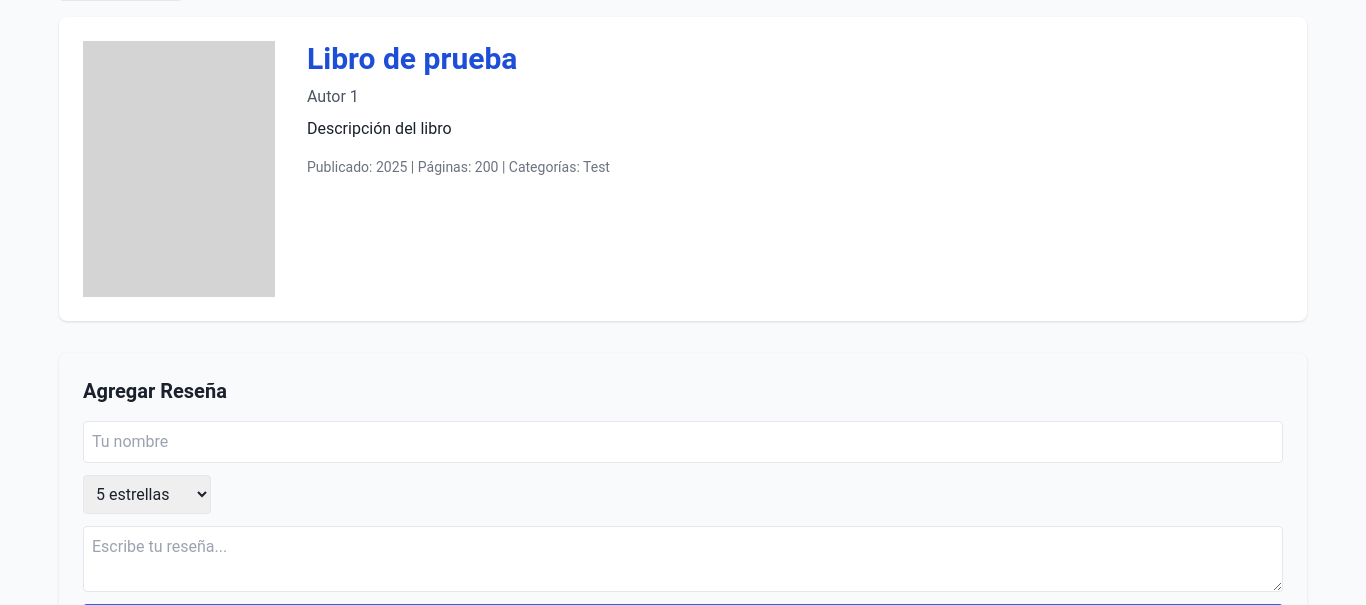
Scenario: BookPage reseñas › permite agregar una reseña y se muestra en la lista
Completar formulario
Type "Juan" into the field with placeholder "Tu nombre" at point(683, 442), box [83, 421, 1283, 463]
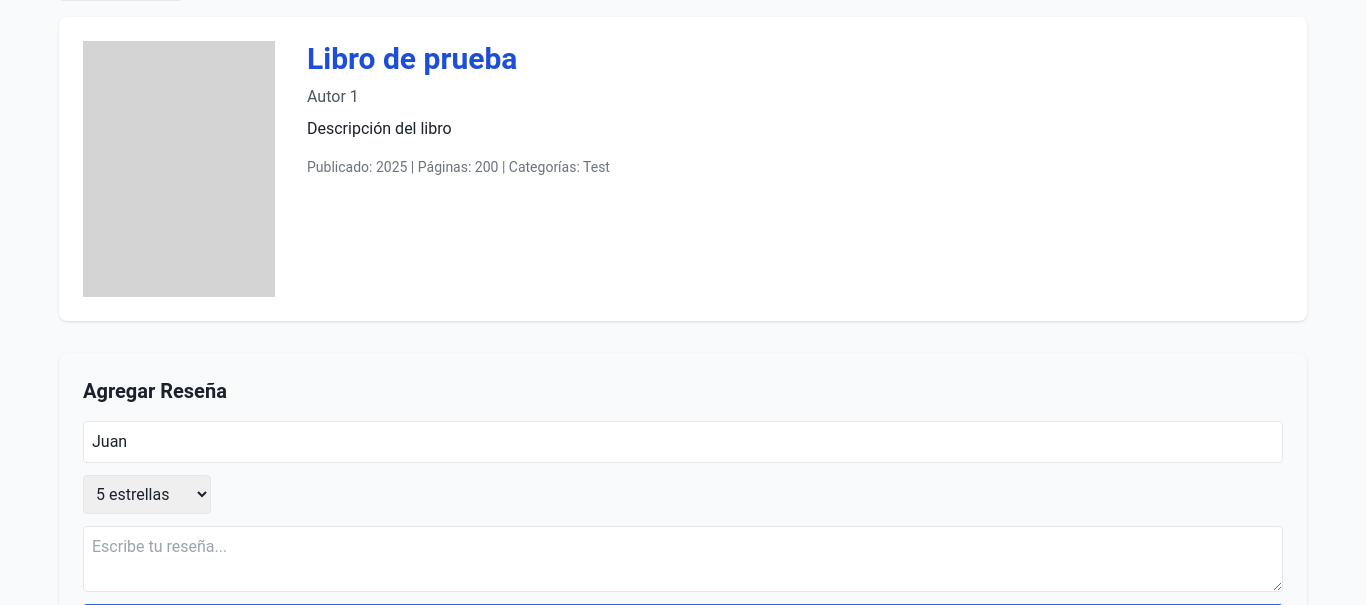
Type "Muy buen libro" into the text box with placeholder "Escribe tu reseña..." at point(683, 559), box [83, 526, 1283, 592]
(page scrolled)
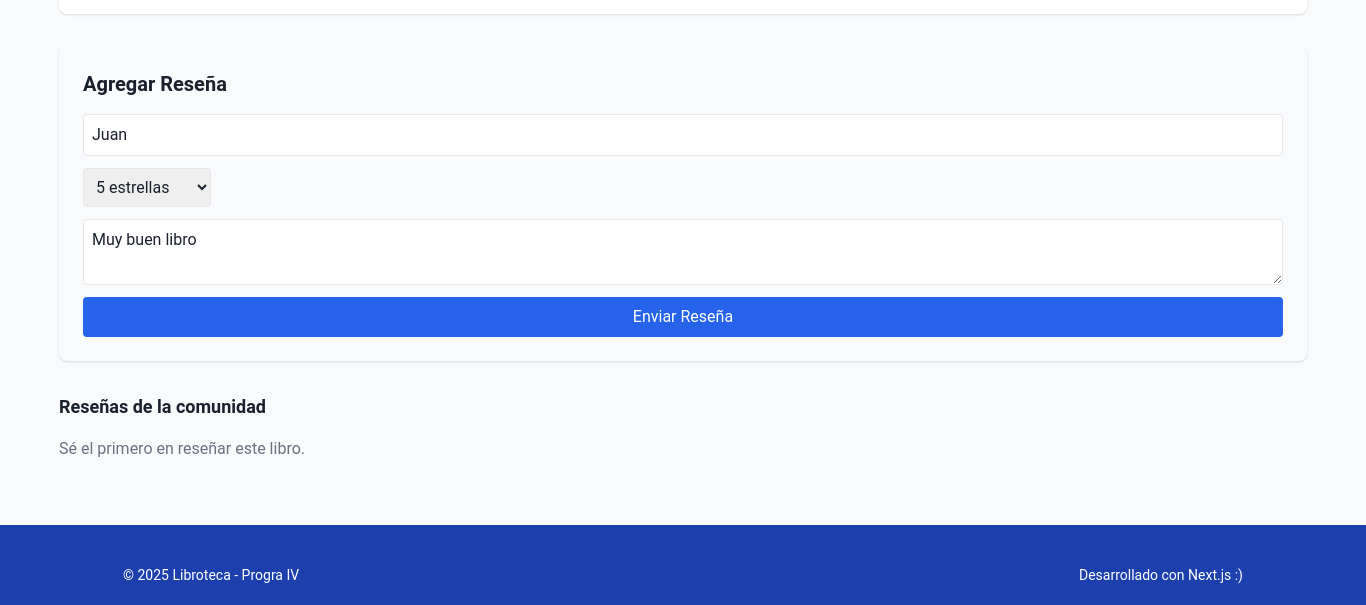
Click the button "Enviar Reseña" at point(683, 317), box [83, 297, 1283, 337]
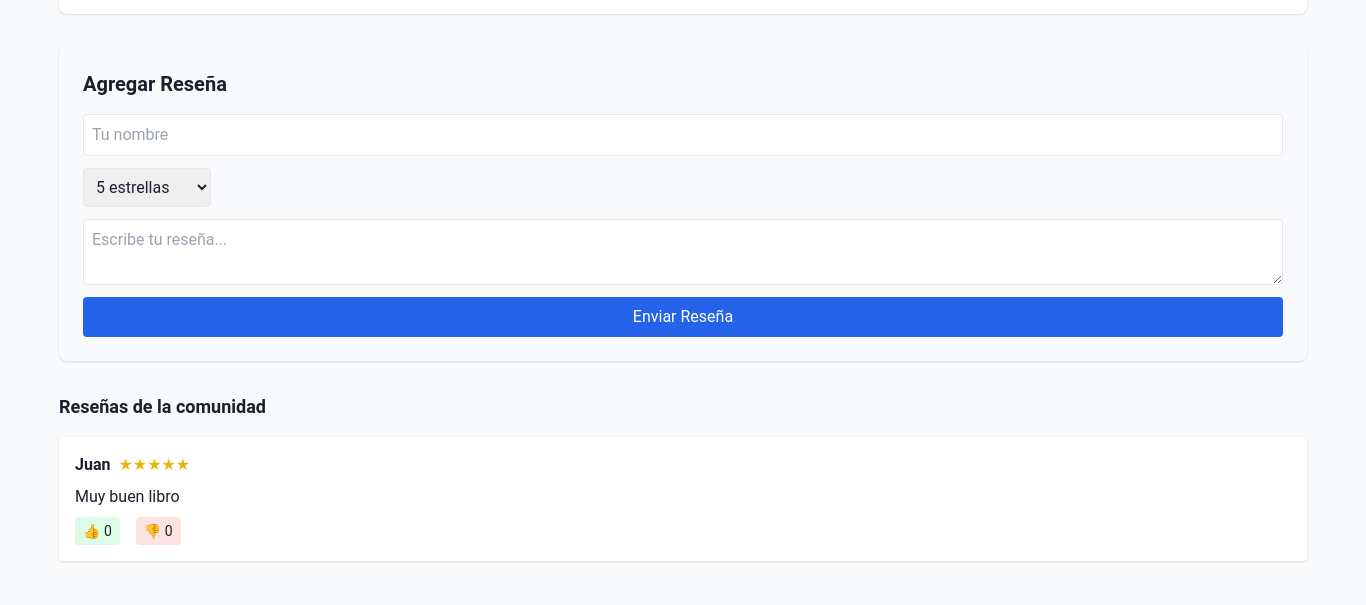
Check: the text "Juan" is shown, box [75, 453, 110, 477]
Check: the text "Muy buen libro" is shown, box [75, 487, 180, 506]
